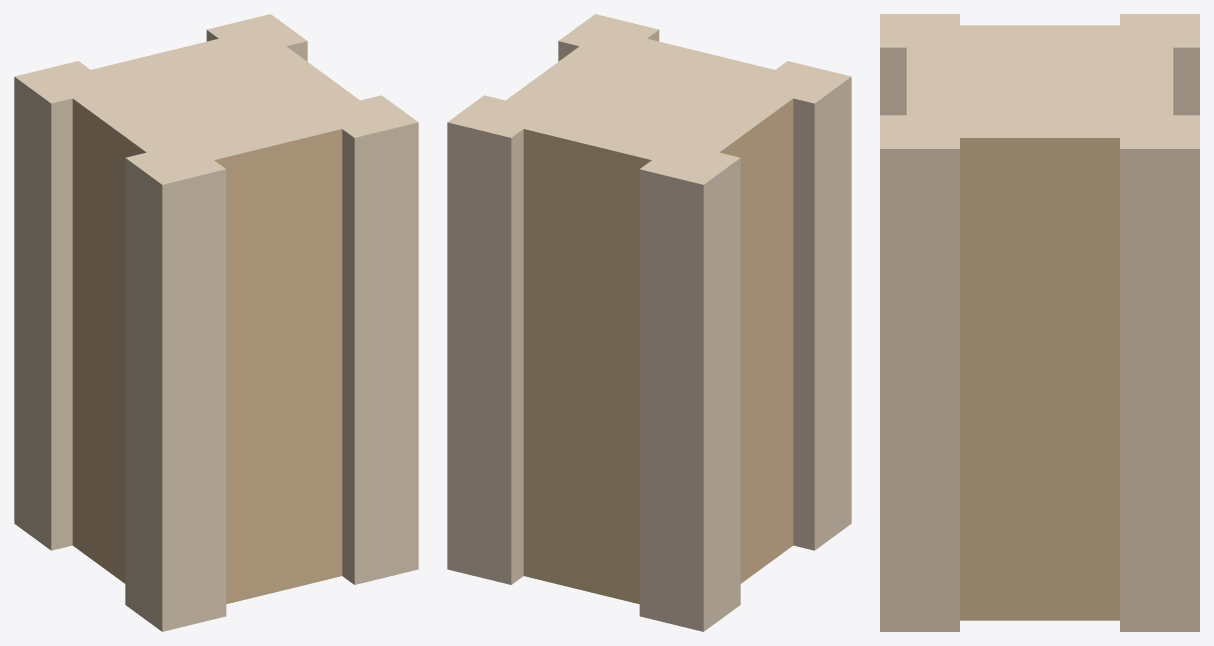
File: Pillar_Large_Middle.glb
3 views of the same model, side by side, from view 1: azimuth 30°, elevation 25°; view 2: azimuth 150°, elevation 25°; view 3: azimuth 270°, elevation 25° (orthographic). The views are drawn at different scales.
Parts seen in each view (by area): view 1: Pillar_Large_Middle; view 2: Pillar_Large_Middle; view 3: Pillar_Large_Middle.
Part boxes in pixels (<box>): Pillar_Large_Middle: <box>14,14,418,631</box>; Pillar_Large_Middle: <box>447,14,851,631</box>; Pillar_Large_Middle: <box>880,14,1199,631</box>.
Bounding box in the file's own units: 0.6 × 1 × 0.6.
